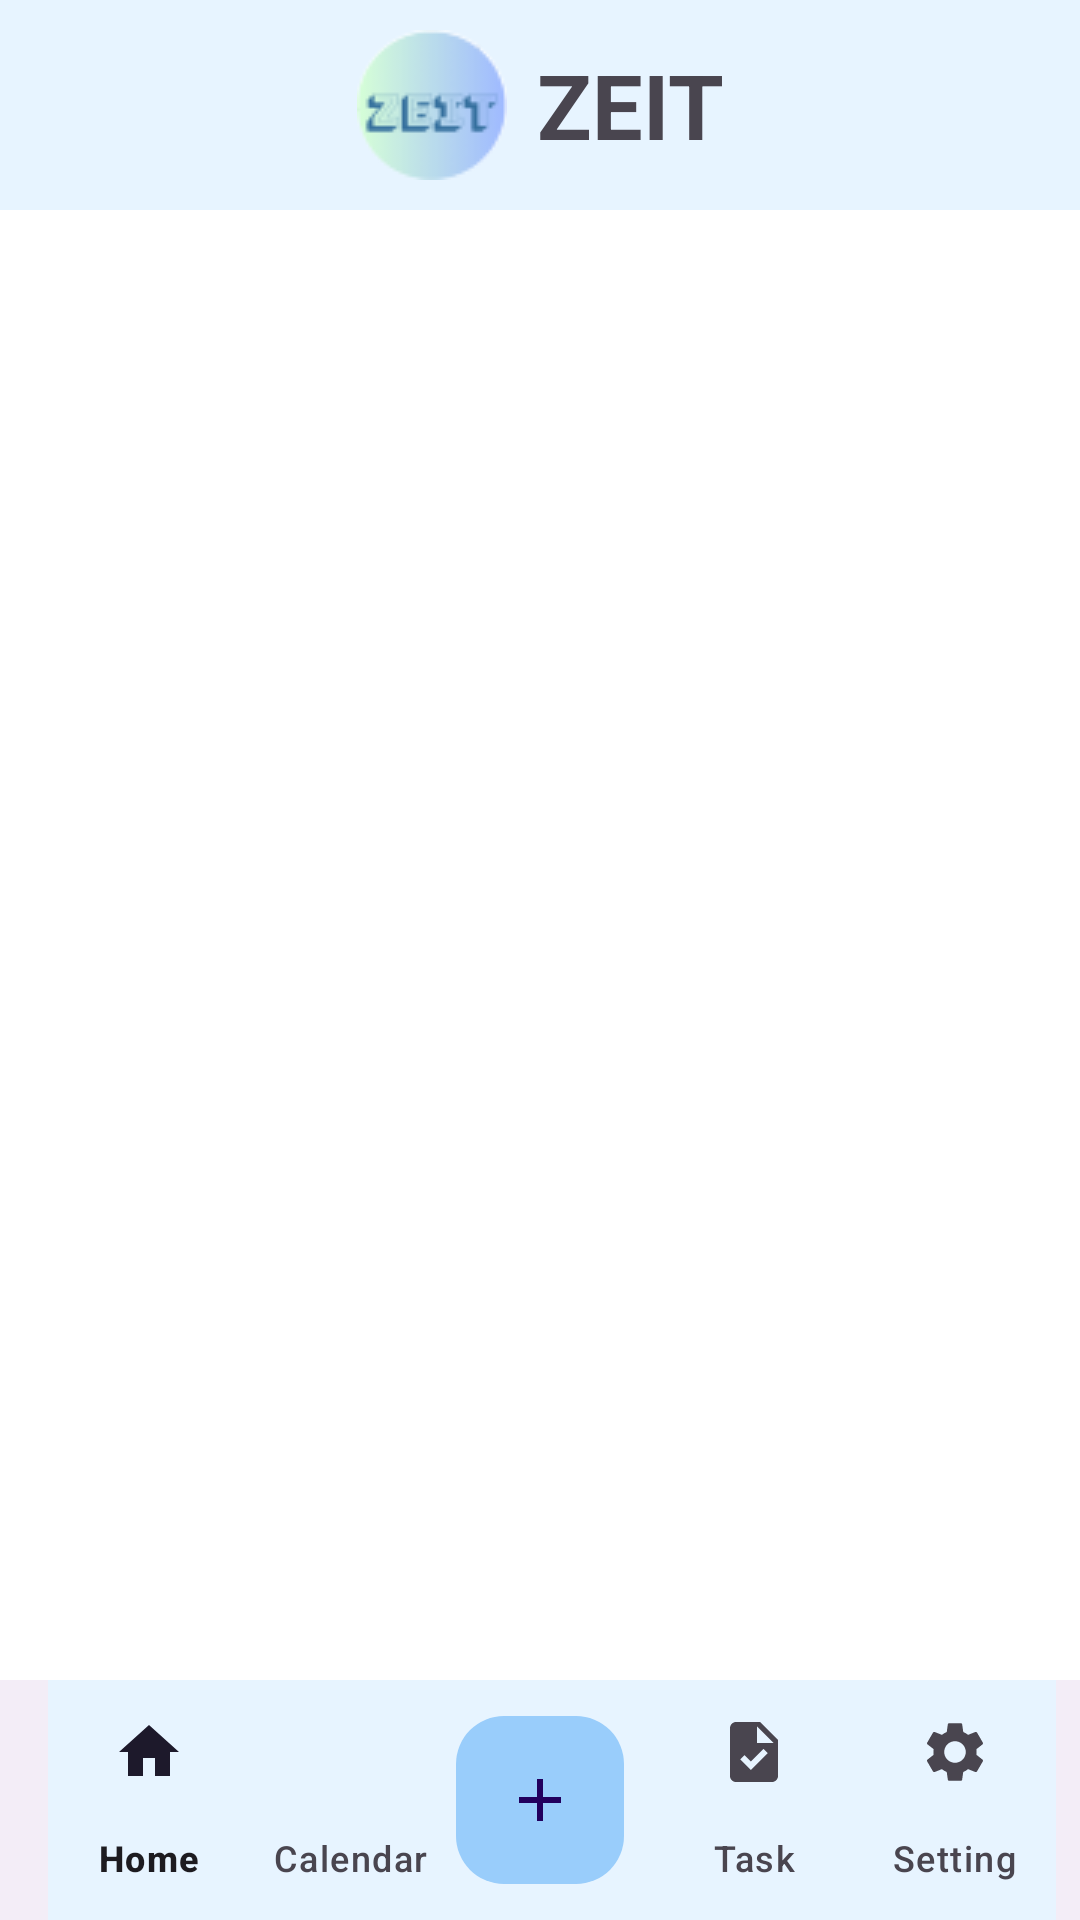

Screen size 1080w x 1920h. Icon name, then its box in pixels as (x1, y1, x2, y2):
add: (456, 1752, 624, 1884)
